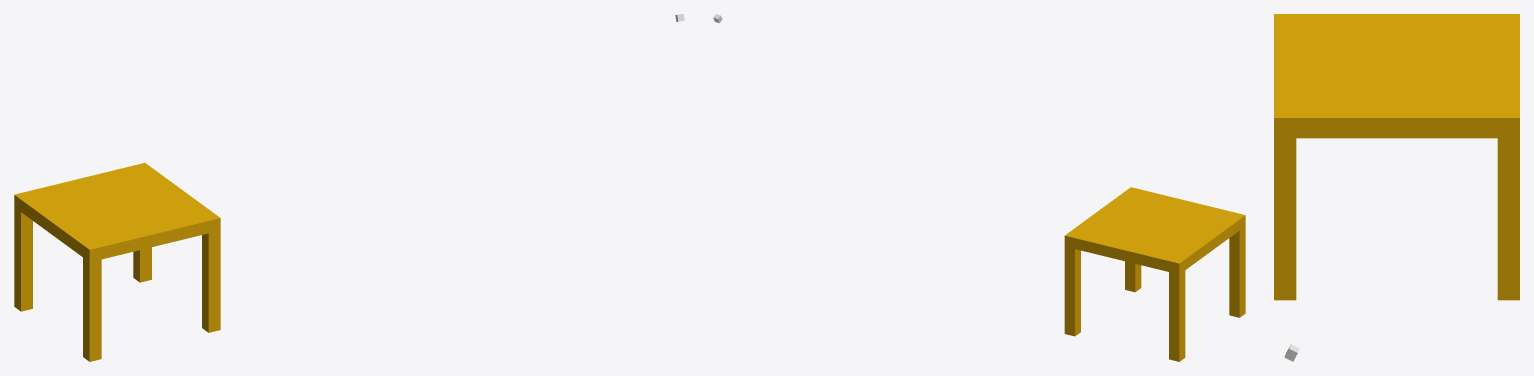
The model's file is lack.fbx.
3 views of the same model, side by side, from view 1: azimuth 30°, elevation 25°; view 2: azimuth 150°, elevation 25°; view 3: azimuth 270°, elevation 25° (orthographic). The views are drawn at different scales.
Visible parts, largest first — view 1: Cube.003; view 2: Cube.003; view 3: Cube.003.
Part boxes in pixels (left/top/right/bottom): Cube.003: left=14, top=163, right=220, bottom=361; Cube.003: left=1064, top=187, right=1245, bottom=361; Cube.003: left=1274, top=14, right=1519, bottom=300.
Size of the model in its own units: 252 by 79.75 by 55.
